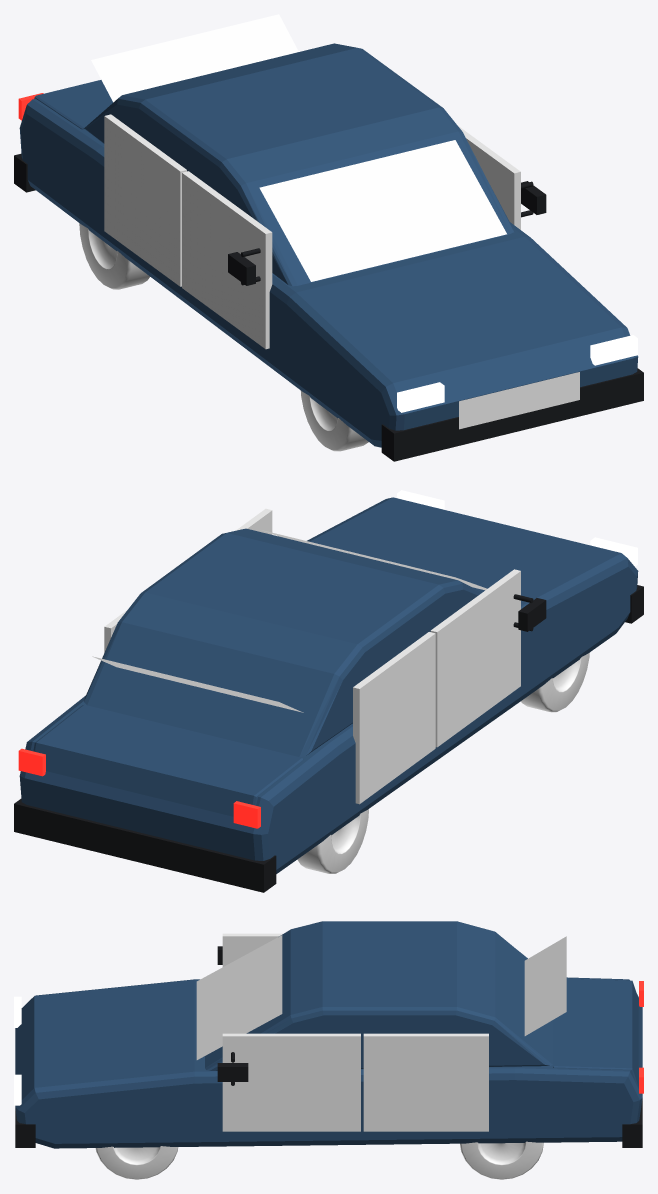
File: fleet--sedan.glb
3 renders of one model, top to bottom at view 1: azimuth 30°, elevation 25°; view 2: azimuth 150°, elevation 25°; view 3: azimuth 270°, elevation 25°, orthographic. The views are drawn at different scales.
Parts seen in each view (by area): view 1: sedan:shell, doorFR, doorRR, doorFL, axle2, trunk, headlights, wheelFR, mirrorR, mirrorL; view 2: sedan:shell, trunk, doorFR, doorRR, axle2, wheelFR, tailLights, headlights, mirrorR; view 3: sedan:shell, doorFL, doorRL, trunk, axle2, wheelFL, doorFR, mirrorL, headlights.
Part boxes in pixels (x1,y1,x2,y2): sedan:shell: (14, 14, 643, 461); doorFR: (182, 171, 272, 349); doorRR: (104, 114, 186, 286); doorFL: (458, 126, 520, 229); axle2: (79, 223, 149, 289); trunk: (34, 80, 112, 129); headlights: (397, 335, 637, 412); wheelFR: (300, 390, 368, 451); mirrorR: (228, 248, 260, 285); mirrorL: (521, 181, 546, 217); sedan:shell: (14, 497, 643, 892); trunk: (33, 704, 303, 816); doorFR: (430, 569, 520, 747); doorRR: (353, 632, 435, 804); axle2: (297, 809, 368, 873); wheelFR: (521, 652, 589, 712); tailLights: (18, 748, 260, 828); headlights: (397, 490, 637, 566); mirrorR: (513, 594, 546, 631); sedan:shell: (15, 921, 642, 1148); doorFL: (222, 1033, 360, 1131); doorRL: (363, 1033, 488, 1131); trunk: (553, 978, 638, 1086); axle2: (460, 1141, 543, 1179); wheelFL: (95, 1146, 178, 1179); doorFR: (222, 933, 283, 966); mirrorL: (217, 1052, 248, 1085); headlights: (14, 996, 21, 1105).
Size of the model in its own units: 2.23 by 1.45 by 4.92.
